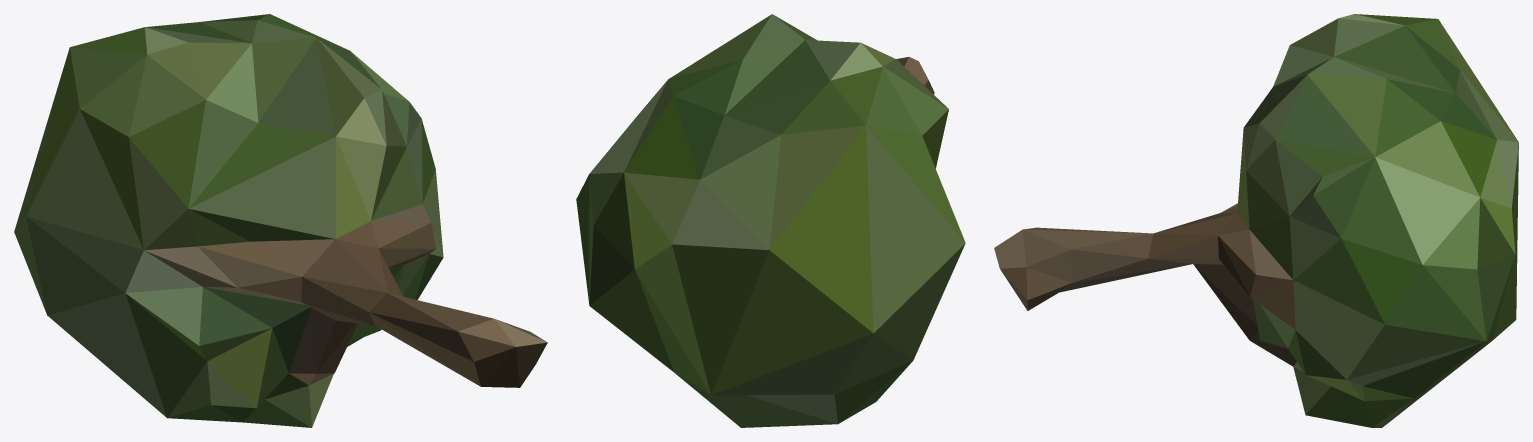
File: Tree_C-DetailA.fbx
3 views of the same model, side by side, from view 1: azimuth 30°, elevation 25°; view 2: azimuth 150°, elevation 25°; view 3: azimuth 270°, elevation 25° (orthographic). The views are drawn at different scales.
Visible parts, largest first — view 1: Tree_C-DetailA; view 2: Tree_C-DetailA; view 3: Tree_C-DetailA.
Part boxes in pixels (x1,y1,x2,y2): Tree_C-DetailA: [14, 14, 547, 427]; Tree_C-DetailA: [576, 14, 965, 427]; Tree_C-DetailA: [994, 14, 1518, 427].
Bounding box in the file's own units: 846 × 814 × 1059.
